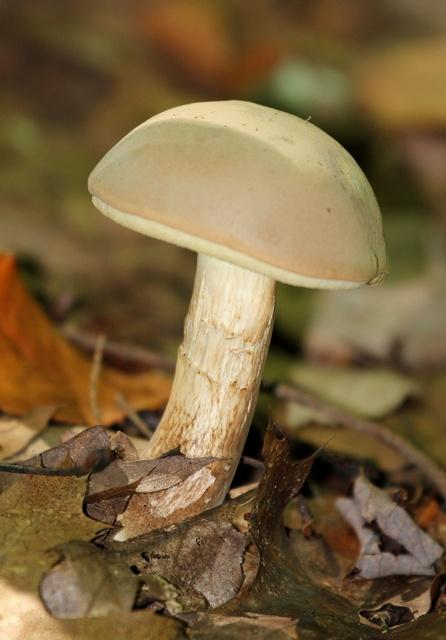edible_mushroom: (85, 97, 390, 533)
